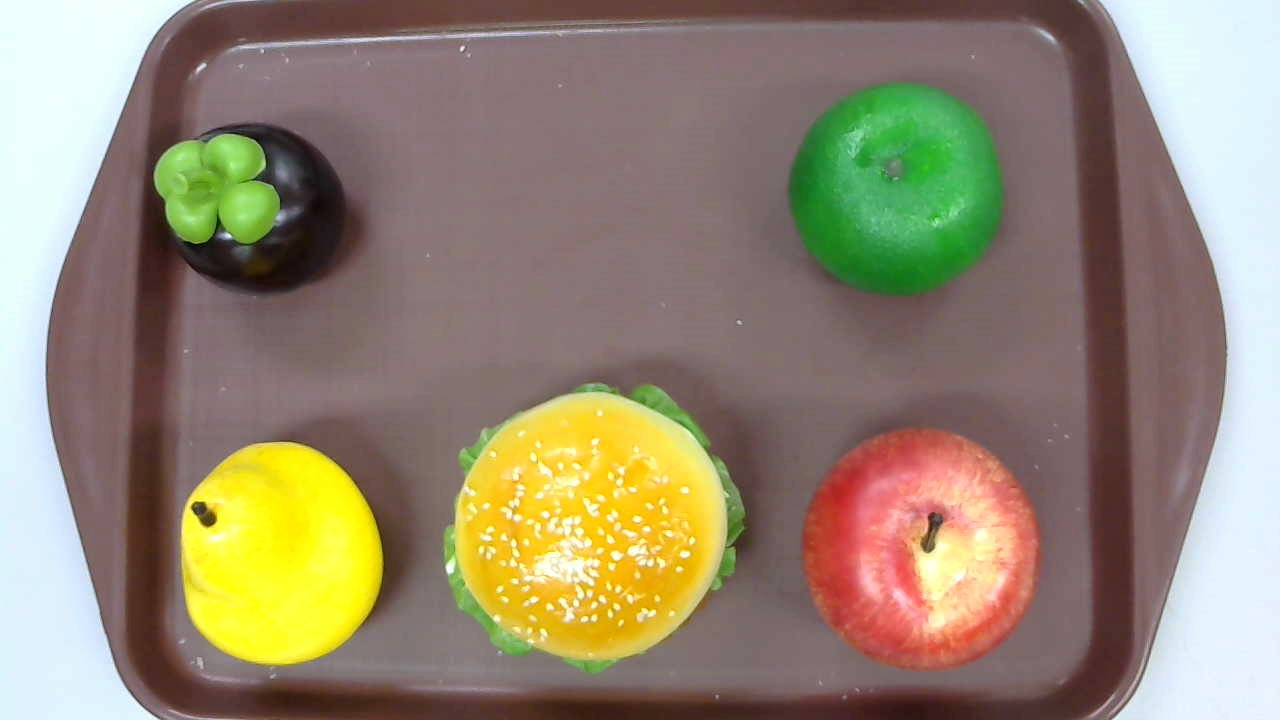green orange: (789, 83, 1003, 299)
hamburger: (444, 381, 746, 673)
mangosteen: (153, 122, 347, 295)
red apple: (802, 427, 1041, 672)
yellow pear: (180, 441, 383, 665)
